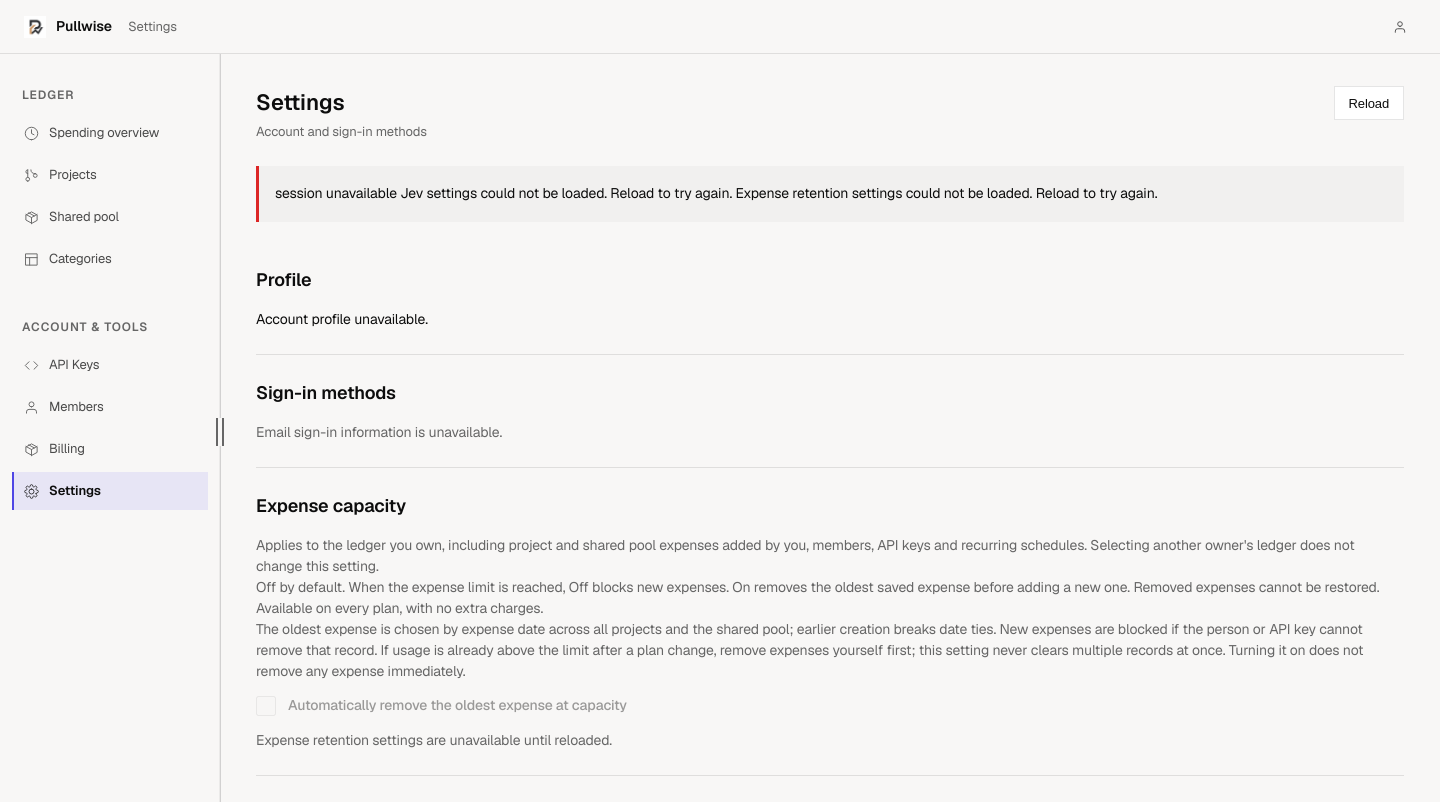
product settings › offers retry when account data fails without inventing an empty account
Expected: the message shows "session unavailable", top-left (275, 184), bottom-right (1157, 202)
Expected: the text "Account profile unavailable." is shown, top-left (256, 310), bottom-right (428, 328)
Click the button "Reload": (1369, 103) top-left (1334, 86), bottom-right (1404, 120)
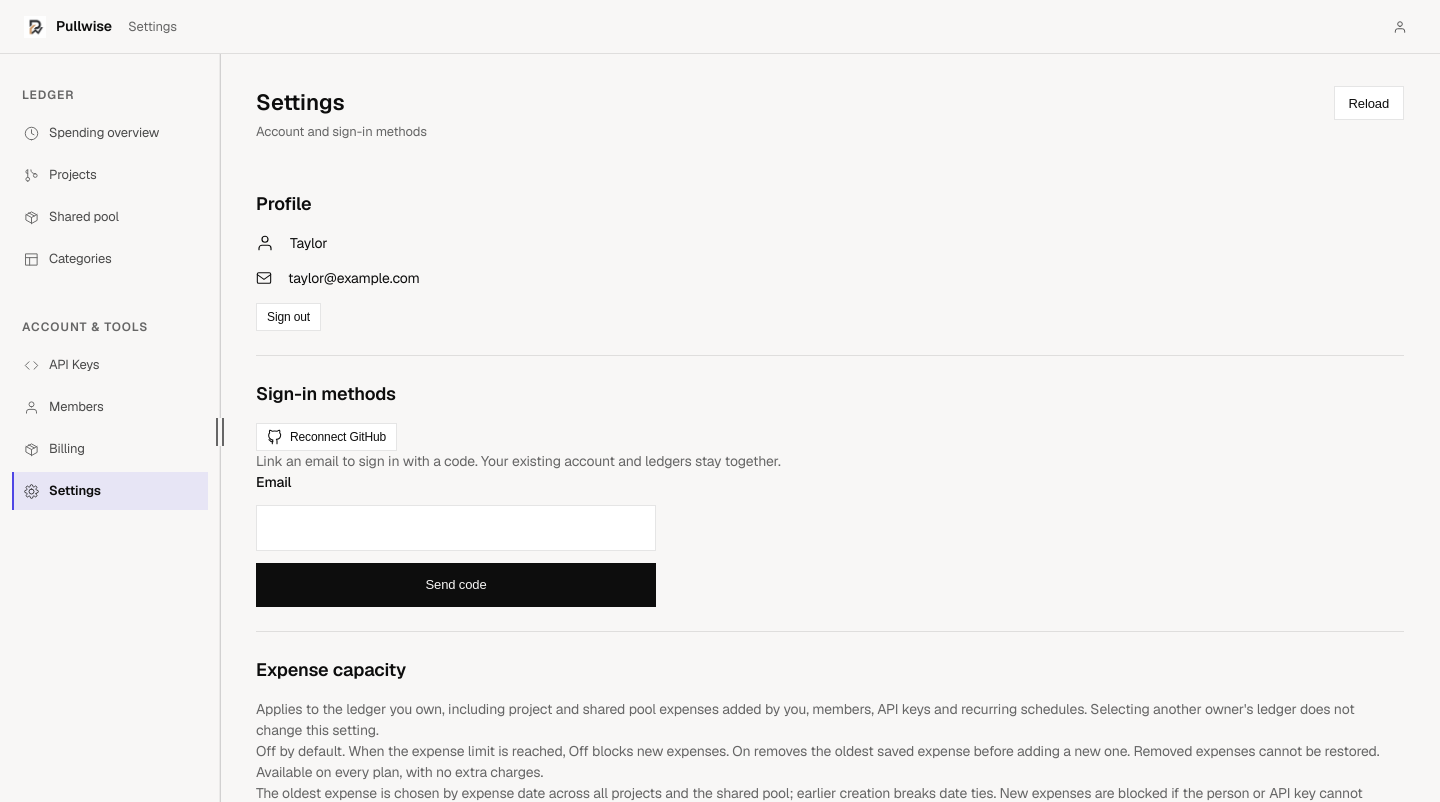
Expected: the text "Taylor" is shown, top-left (290, 233), bottom-right (328, 254)
